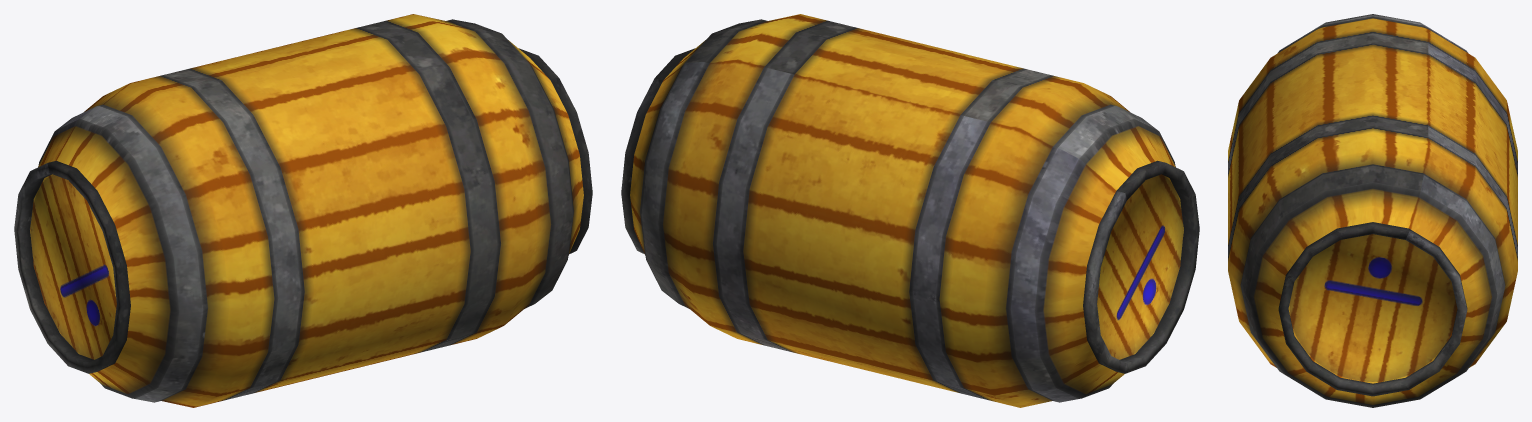
Rendered from Barrel.fbx.
3 renders of one model, left to right at view 1: azimuth 30°, elevation 25°; view 2: azimuth 150°, elevation 25°; view 3: azimuth 270°, elevation 25°, orthographic. The views are drawn at different scales.
Parts seen in each view (by area): view 1: Barrel; view 2: Barrel; view 3: Barrel.
Part boxes in pixels (<box>): Barrel: <box>14,14,592,407</box>; Barrel: <box>621,14,1199,407</box>; Barrel: <box>1228,14,1517,407</box>.
Size of the model in its own units: 1.21 by 1.97 by 1.21.
